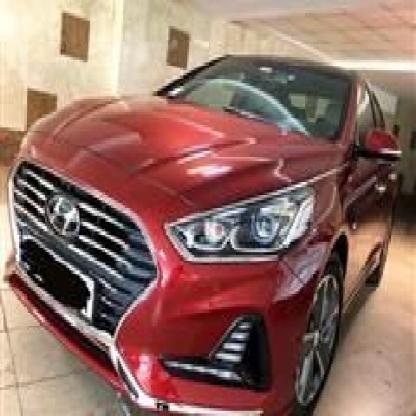Car: (0, 49, 399, 416)
